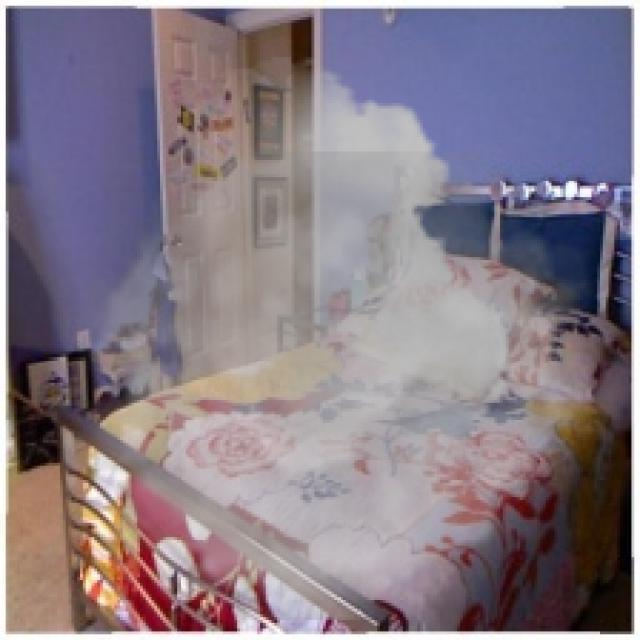Smoke: (59, 57, 612, 620)
